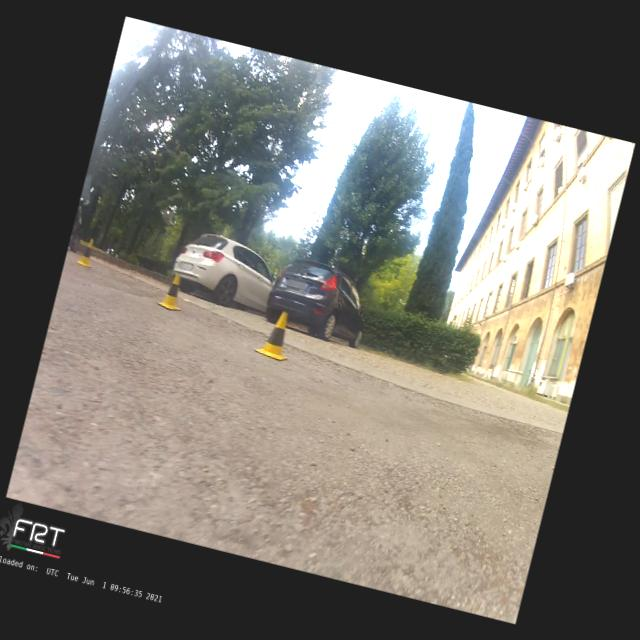yellow_cone: (252, 306, 298, 362), (155, 270, 188, 312), (74, 236, 98, 268)
